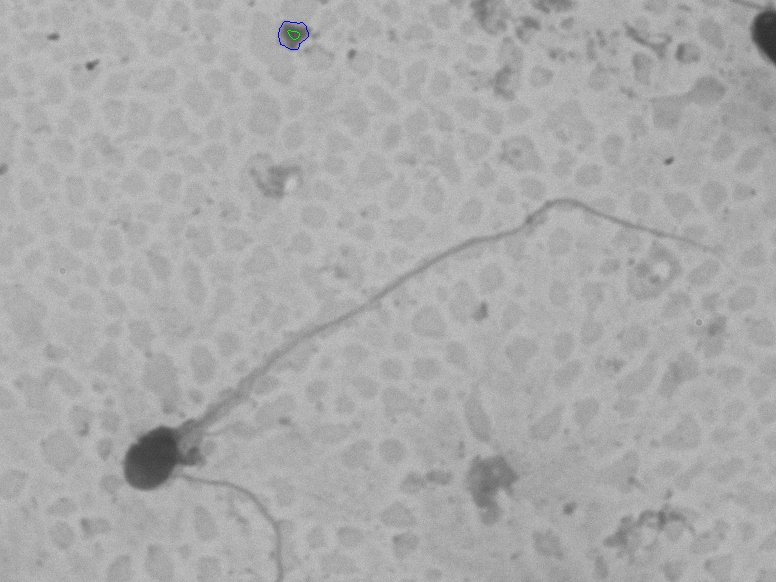Abnormal: (109, 181, 744, 508)
